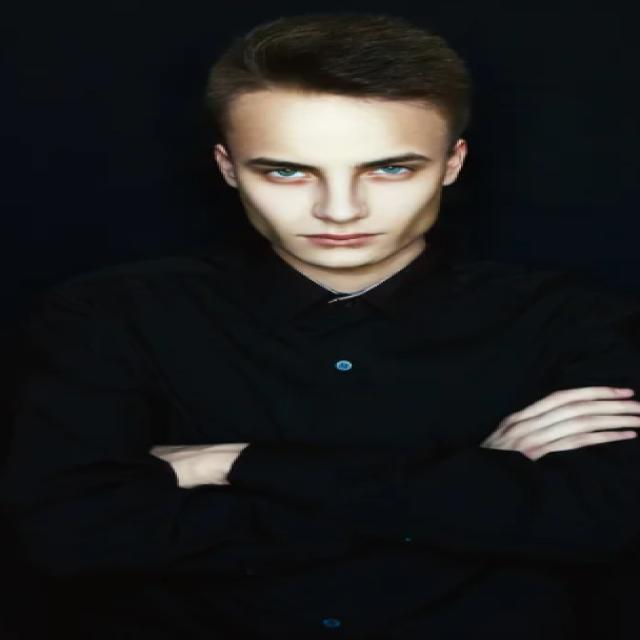face_no_mask: (209, 94, 472, 276)
